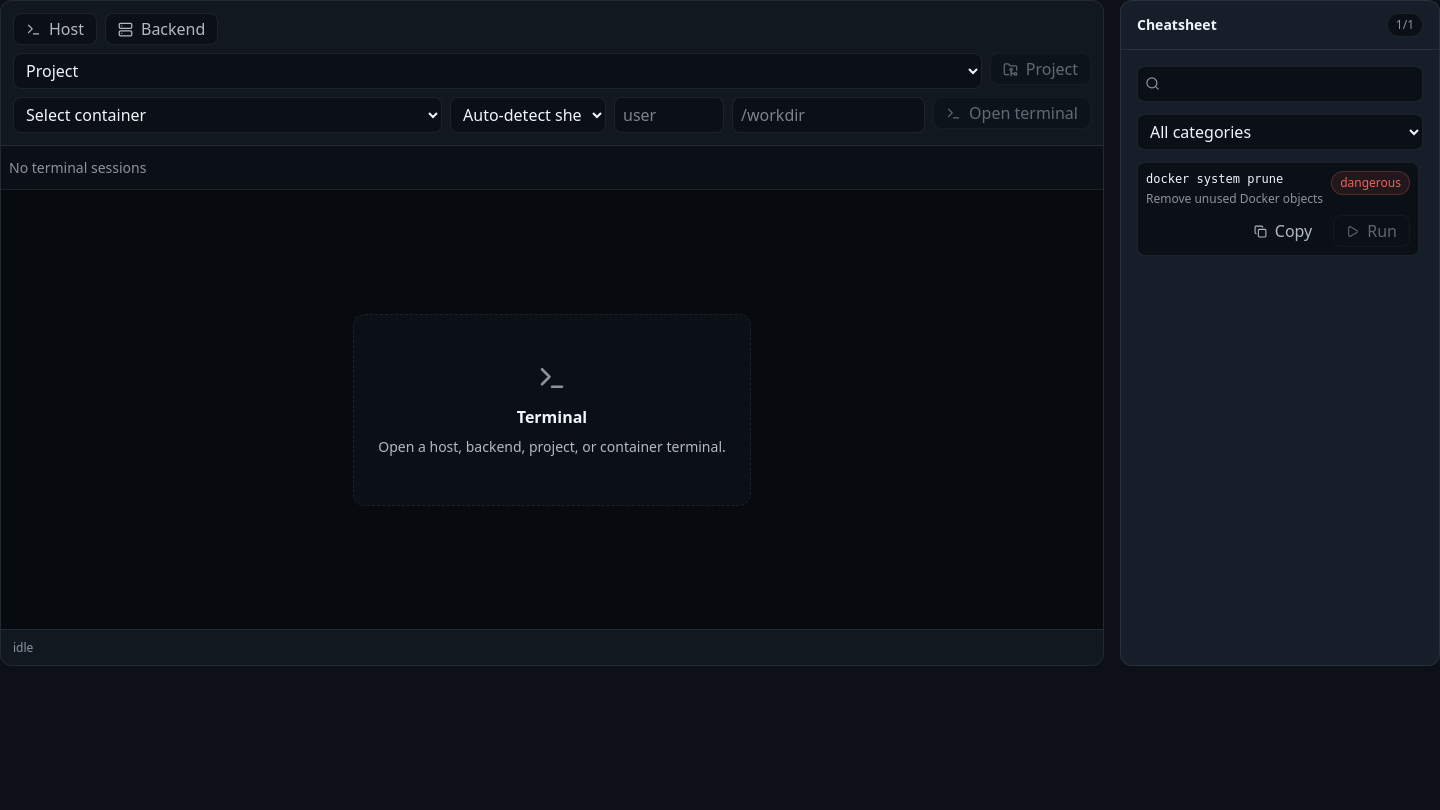
TerminalPage operation and session lifecycle › replaces command copy failure when the next attempt succeeds
The width and height of the screenshot is (1440, 810).
Expected: the text "docker system prune" is shown, [1146,172,1283,186]
Step 1. Click the button "Copy" → (1283, 231), box [1241,215,1325,247]
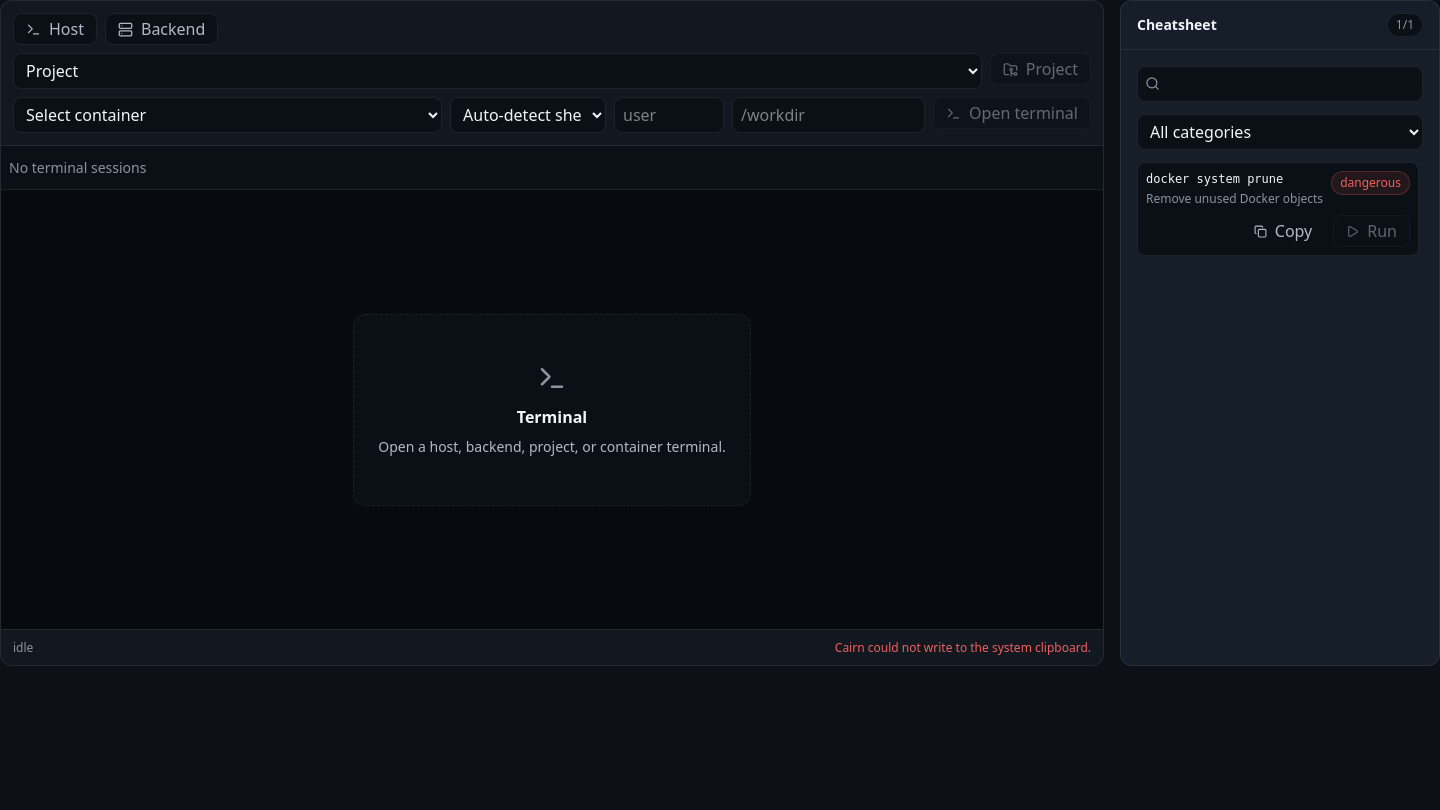
Expected: the text "Command copied" is not shown
Expected: the text "Cairn could not write to the system clipboard." is shown, [835,640,1091,656]
Step 2. Click the button "Copy" → (1283, 231), box [1241,215,1325,247]
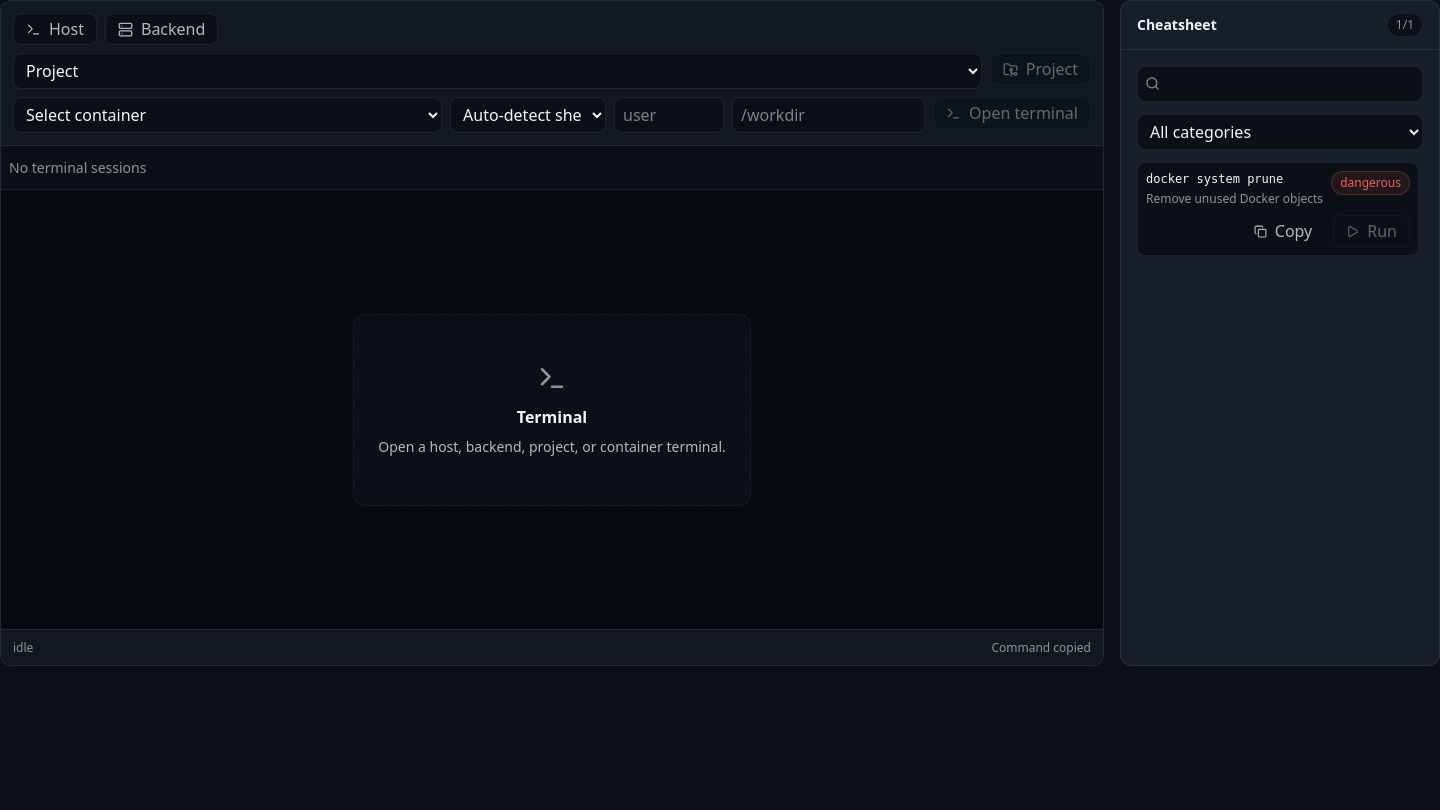
Expected: the text "Command copied" is shown, [991,640,1091,656]
Expected: the text "Cairn could not write to the system clipboard." is gone
